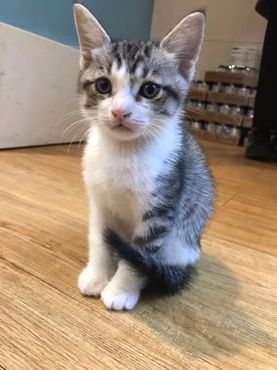cat: (65, 1, 224, 322)
